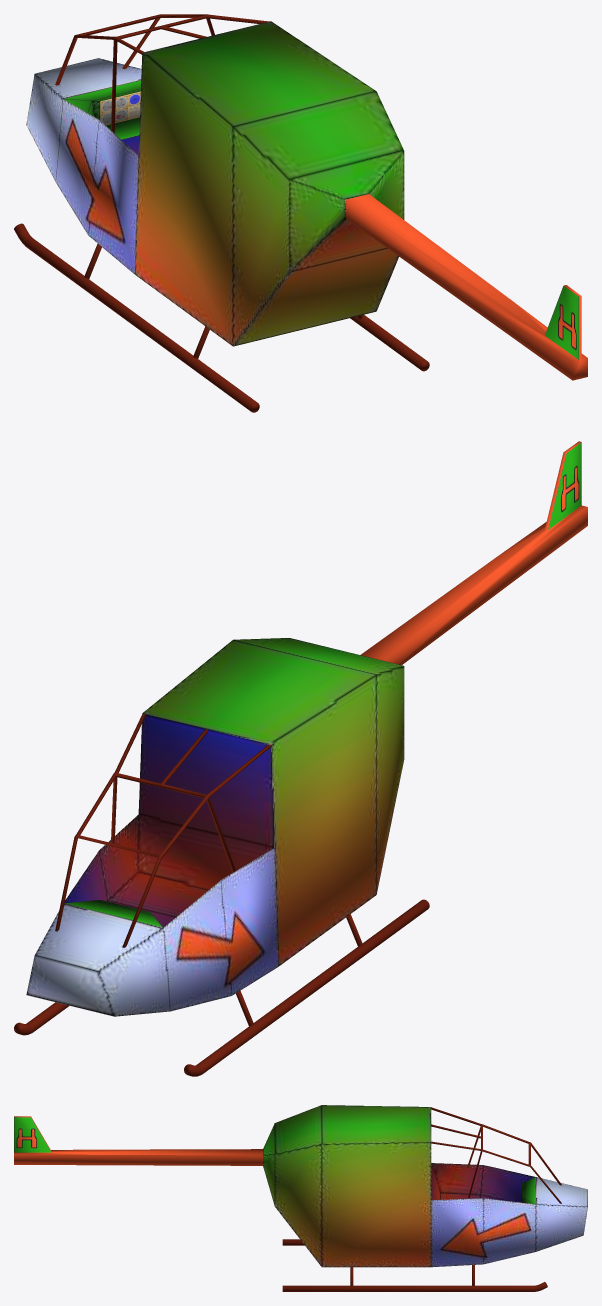
File: heli_hi.obj
3 views of the same model, one above another, from view 1: azimuth 30°, elevation 25°; view 2: azimuth 150°, elevation 25°; view 3: azimuth 270°, elevation 25° (orthographic). The views are drawn at different scales.
Visible parts, largest first — view 1: cube1, cylinder4, cube3; view 2: cube1, cylinder4, cube3; view 3: cube1, cylinder4, cube3.
Boxes of the visible parts, x1,y1,x2,y2 form: cube1: [26, 21, 587, 380]; cylinder4: [14, 223, 429, 412]; cube3: [55, 14, 269, 133]; cube1: [26, 441, 587, 1016]; cylinder4: [14, 899, 429, 1076]; cube3: [55, 714, 270, 947]; cube1: [14, 1105, 587, 1267]; cylinder4: [282, 1239, 547, 1291]; cube3: [431, 1107, 561, 1203].
Bounding box in the file's own units: 0.74 × 1.07 × 3.67.
